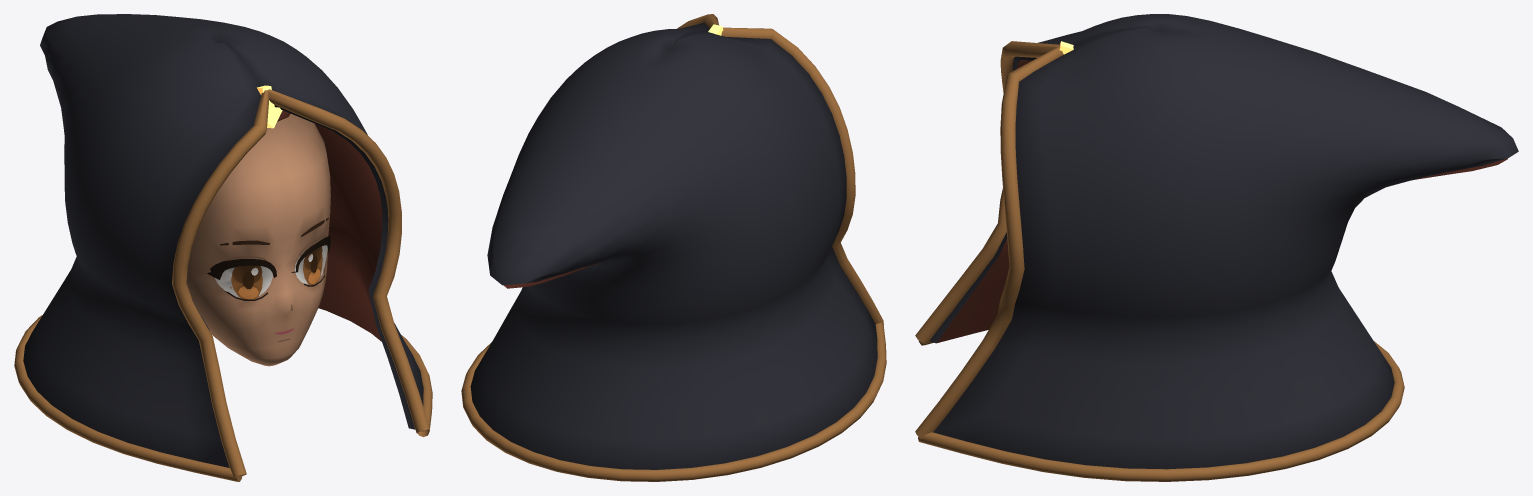
File: h_ember_f.glb
The picture shows the model from 3 angles, left to right: view 1: azimuth 30°, elevation 25°; view 2: azimuth 150°, elevation 25°; view 3: azimuth 270°, elevation 25°; orthographic projection. The views are drawn at different scales.
Visible parts, largest first — view 1: Hood, HeadMesh, LashR, EyeWhiteR; view 2: Hood; view 3: Hood.
Part boxes in pixels (box(x1,y1,x2,y2)): Hood: box(14, 14, 432, 481); HeadMesh: box(186, 113, 330, 366); LashR: box(207, 259, 276, 300); EyeWhiteR: box(215, 266, 272, 297); Hood: box(461, 14, 886, 481); Hood: box(915, 14, 1518, 481).
Size of the model in its own units: 0.3768 by 0.3547 by 0.5291.
